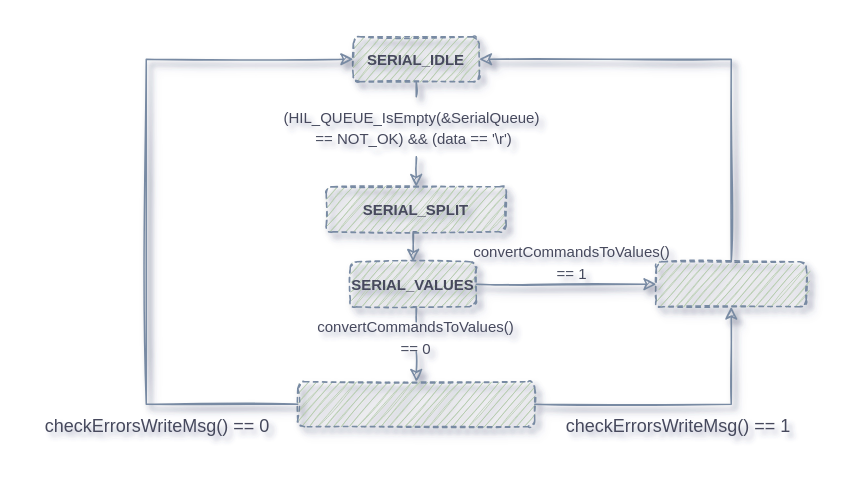
The diagram is 851 pixels wide and 488 high, and some of its shapes have lost their labels. Each missing label, with the centre of its shape:
"SERIAL_ERROR" goes at pixel 732 285.
"SERIAL_MESSAGE" goes at pixel 417 405.
